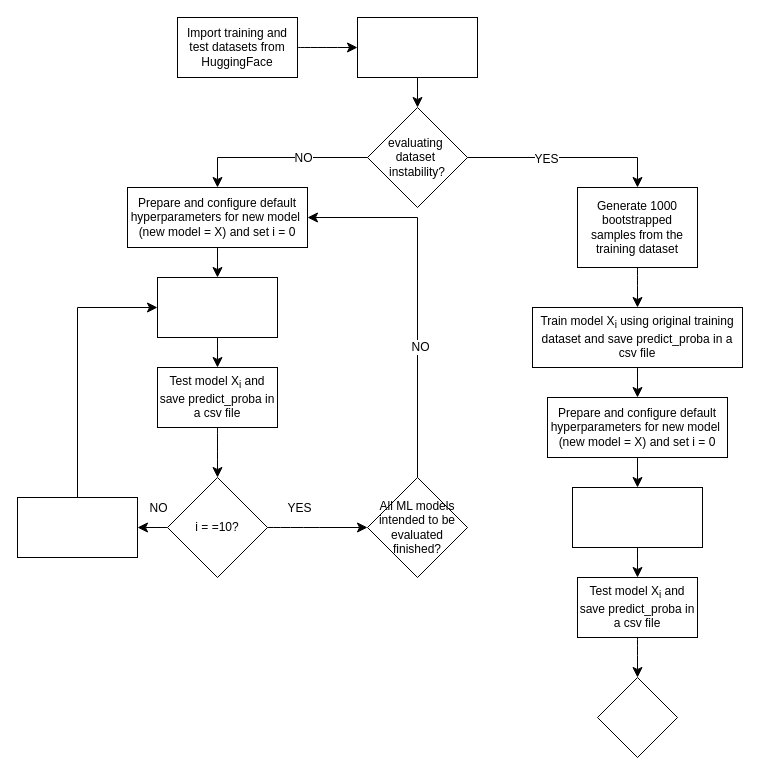
This 760x775 diagram has some shape labels left out. The shapes that lost their labels are listed below. From the top down, each one's centre as x and y in pixels, then its label:
At [417,47]: "Preprocess both training and test datasets".
At [217,307]: "Train model X i using training dataset".
At [77,527]: "change model's random seed and i++".
At [637,517]: "Train model X i using bootstrapped sample i".
At [637,717]: "i == 1000?".
